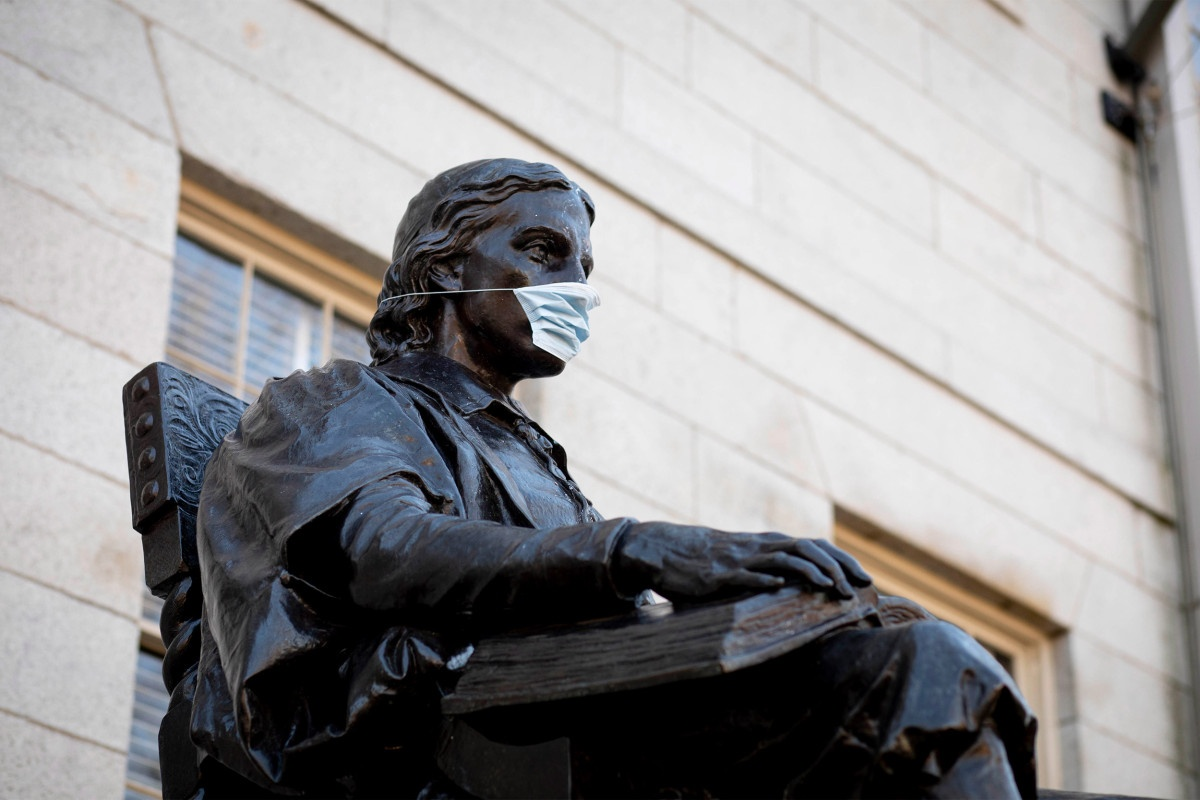with_mask: (373, 163, 598, 373)
